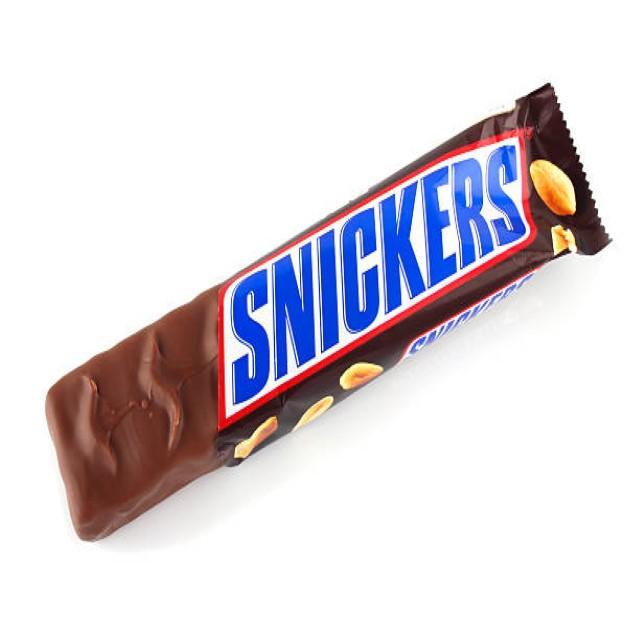snickers_chocolate: (162, 87, 603, 482)
